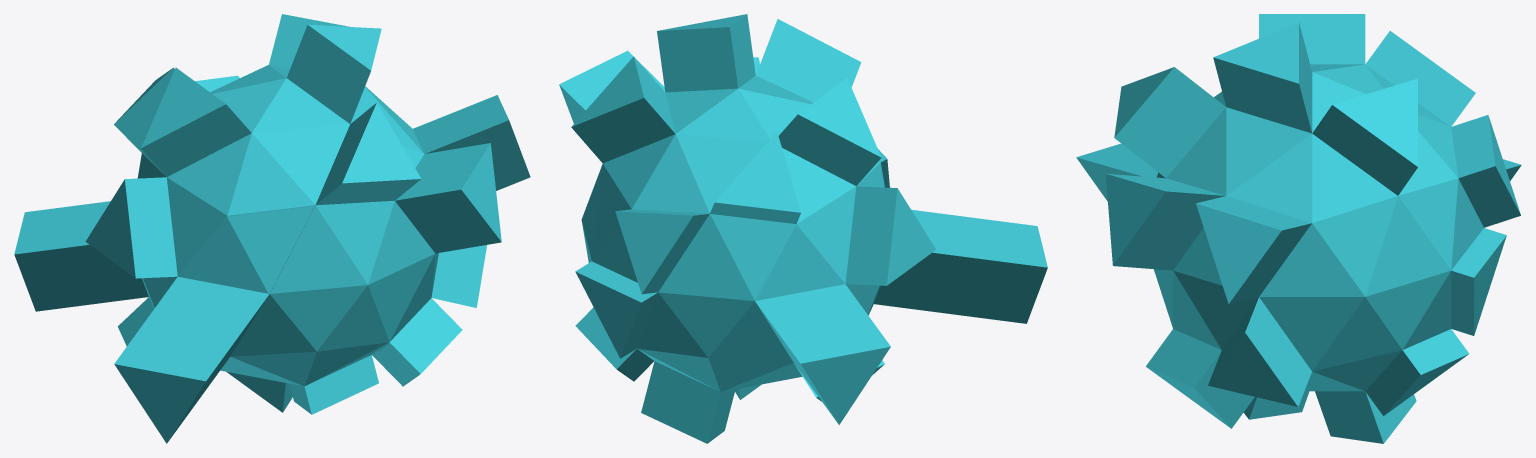
File: candy.fbx
3 views of the same model, side by side, from view 1: azimuth 30°, elevation 25°; view 2: azimuth 150°, elevation 25°; view 3: azimuth 270°, elevation 25° (orthographic). The views are drawn at different scales.
Visible parts, largest first — view 1: Icosphere; view 2: Icosphere; view 3: Icosphere.
Boxes of the visible parts, x1,y1,x2,y2 form: Icosphere: [14, 14, 530, 443]; Icosphere: [559, 14, 1047, 443]; Icosphere: [1076, 14, 1521, 443].
Bounding box in the file's own units: 318 × 269 × 259.
